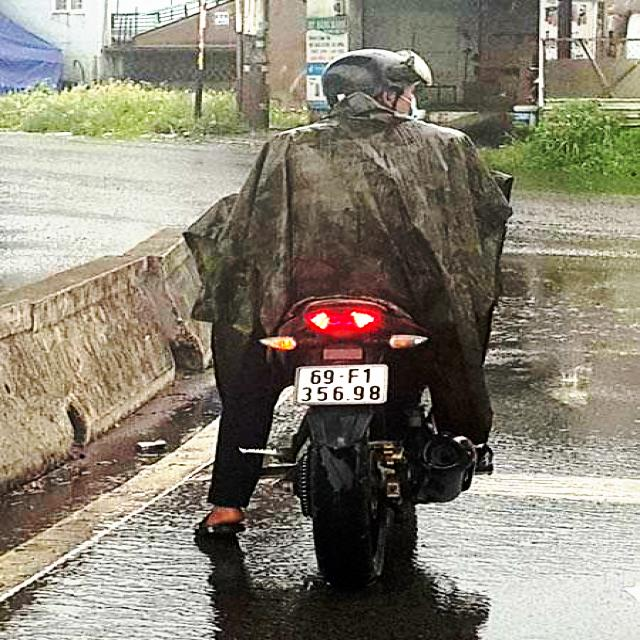license_plate: (294, 364, 393, 407)
